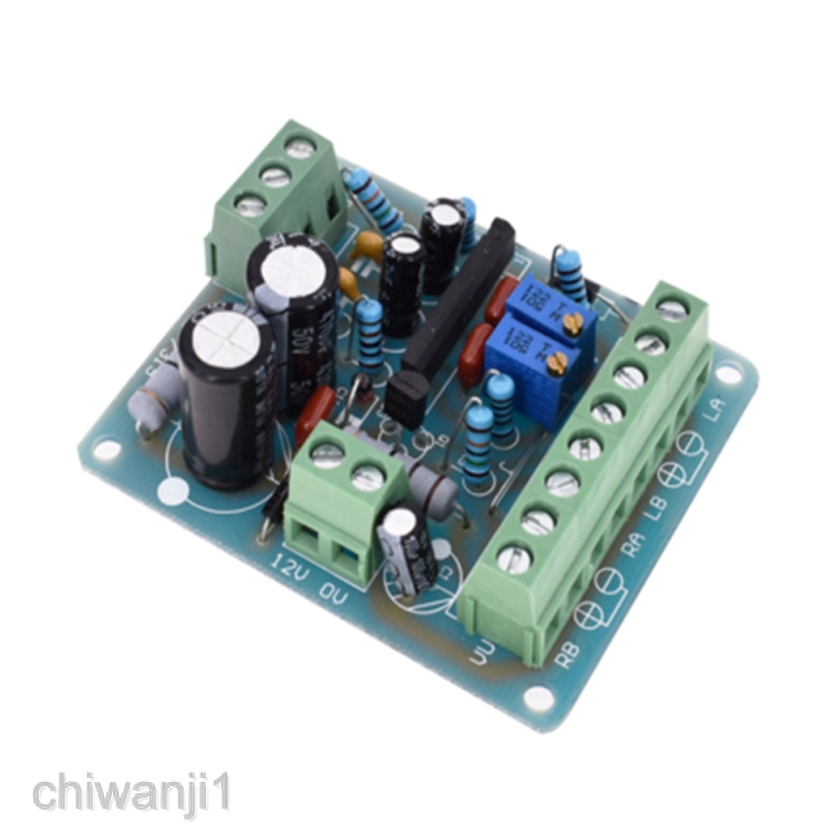capacitor: (163, 293, 282, 535), (235, 222, 354, 407), (374, 211, 431, 342), (404, 182, 476, 282), (371, 509, 443, 601)
